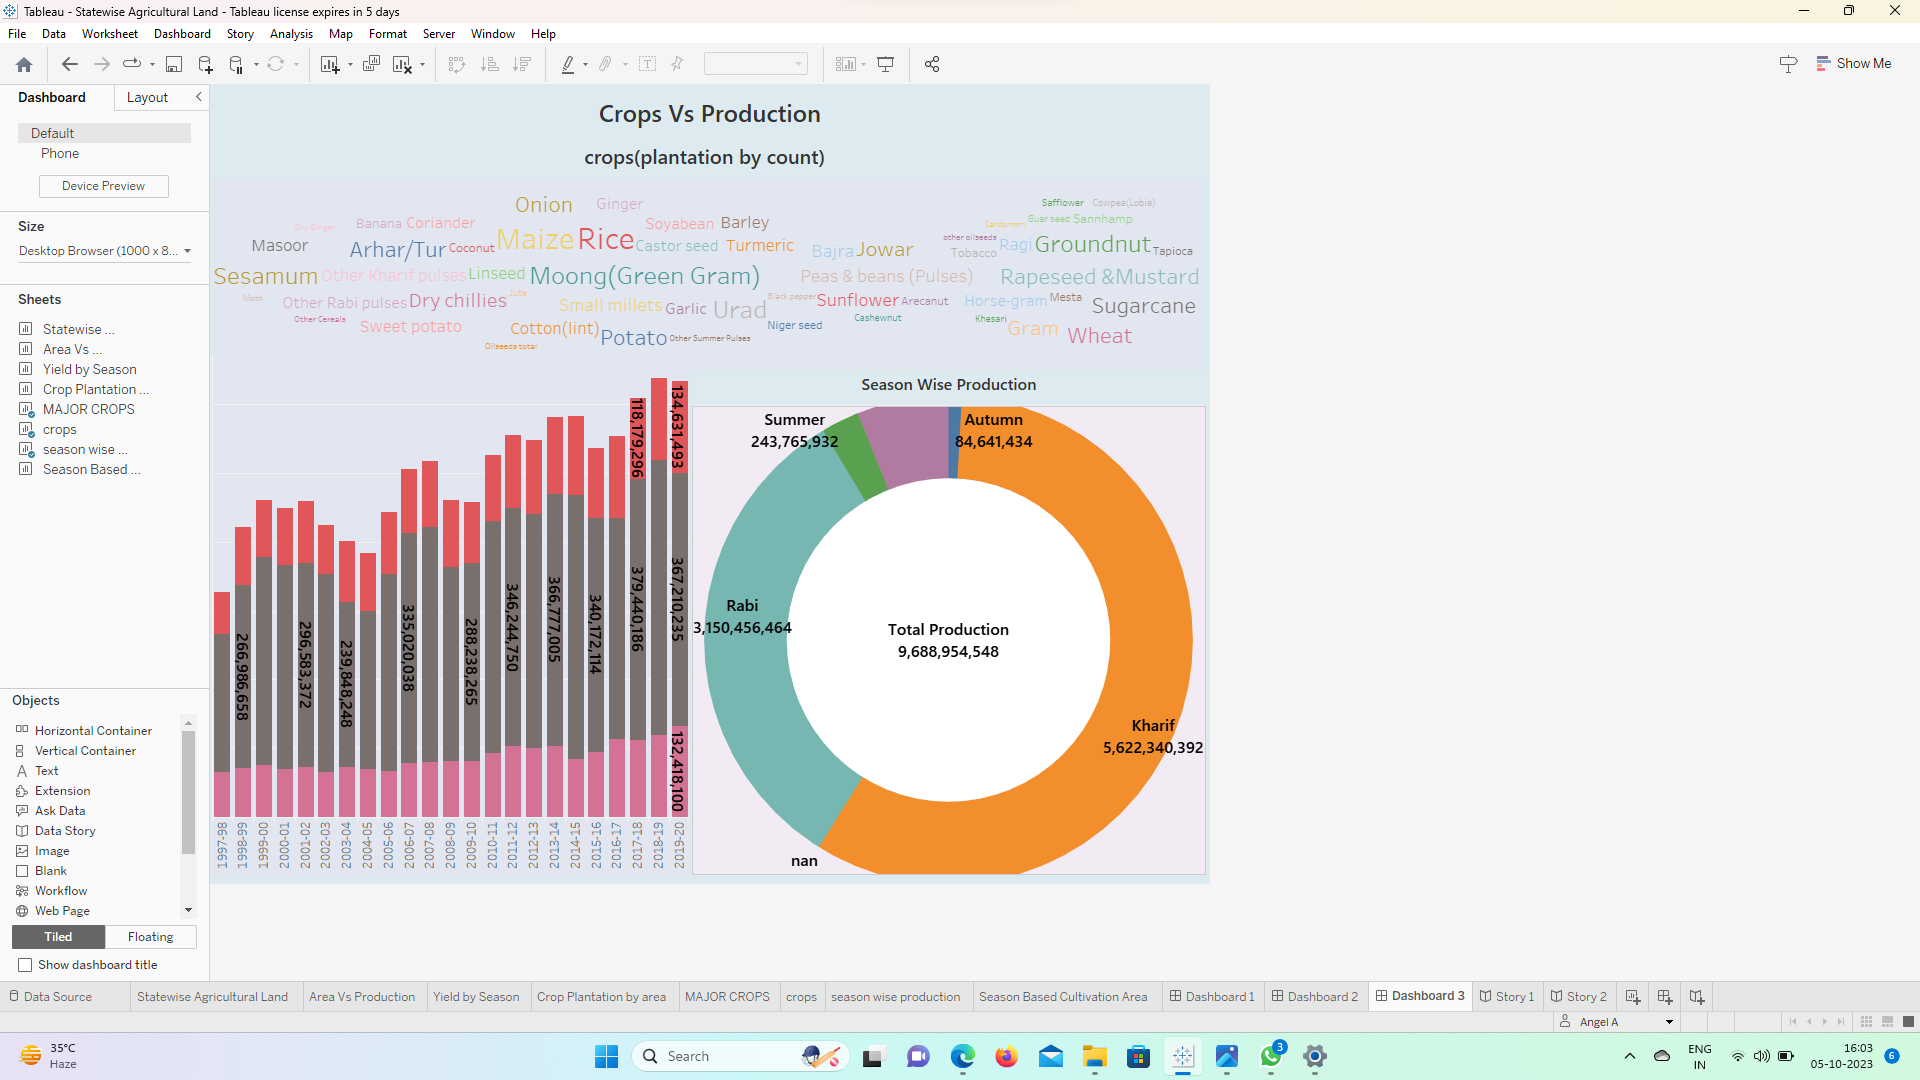

What the dashboard file says about the page in this screenshot:
{"tool":"tableau","page":{"name":"Dashboard 3","canvas":[1000,800],"ordinal":2},"visuals":[{"type":"title","box":[8,8,984,40]},{"type":"worksheet","title":"crops","mark":"Text","box":[3,54,989,232]},{"type":"worksheet","title":"MAJOR CROPS","mark":"Automatic","rows":["Production"],"cols":["Year"],"box":[2,230,478,563]},{"type":"worksheet","title":"season wise production","mark":"Pie","rows":["Calculation_1229201229292306434","Calculation_1229201229292306434"],"box":[482,285,514,506]}]}

Visuals, with their boxes on the page's 1000x800 design canvas (x1, y1, x2, y2). These are canvas units, not pixel positions in the 1920x1080 screenshot, which may show the page scaled, cropped or inside an application window:
title: region(8, 8, 992, 48)
"crops" worksheet (Text marks): region(3, 54, 992, 286)
"MAJOR CROPS" worksheet: region(2, 230, 480, 793)
"season wise production" worksheet (Pie marks): region(482, 285, 996, 791)
